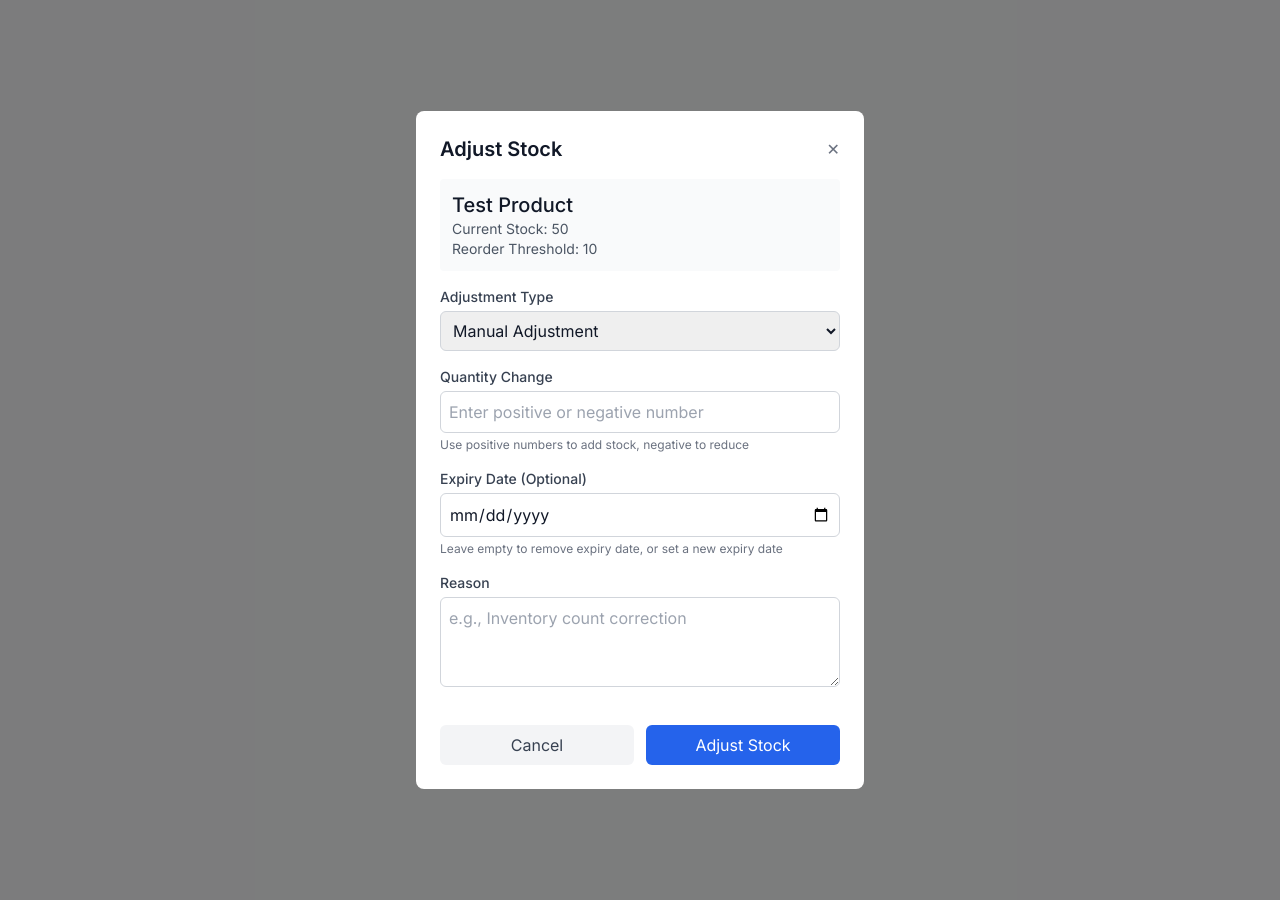
Scenario: StockAdjustmentModal › should show new stock calculation
The image size is (1280, 900).
Enter quantity
Type "10" into the number field with placeholder "Enter positive or negative number".
click(640, 412); type("10")  # box [440,391,840,433]
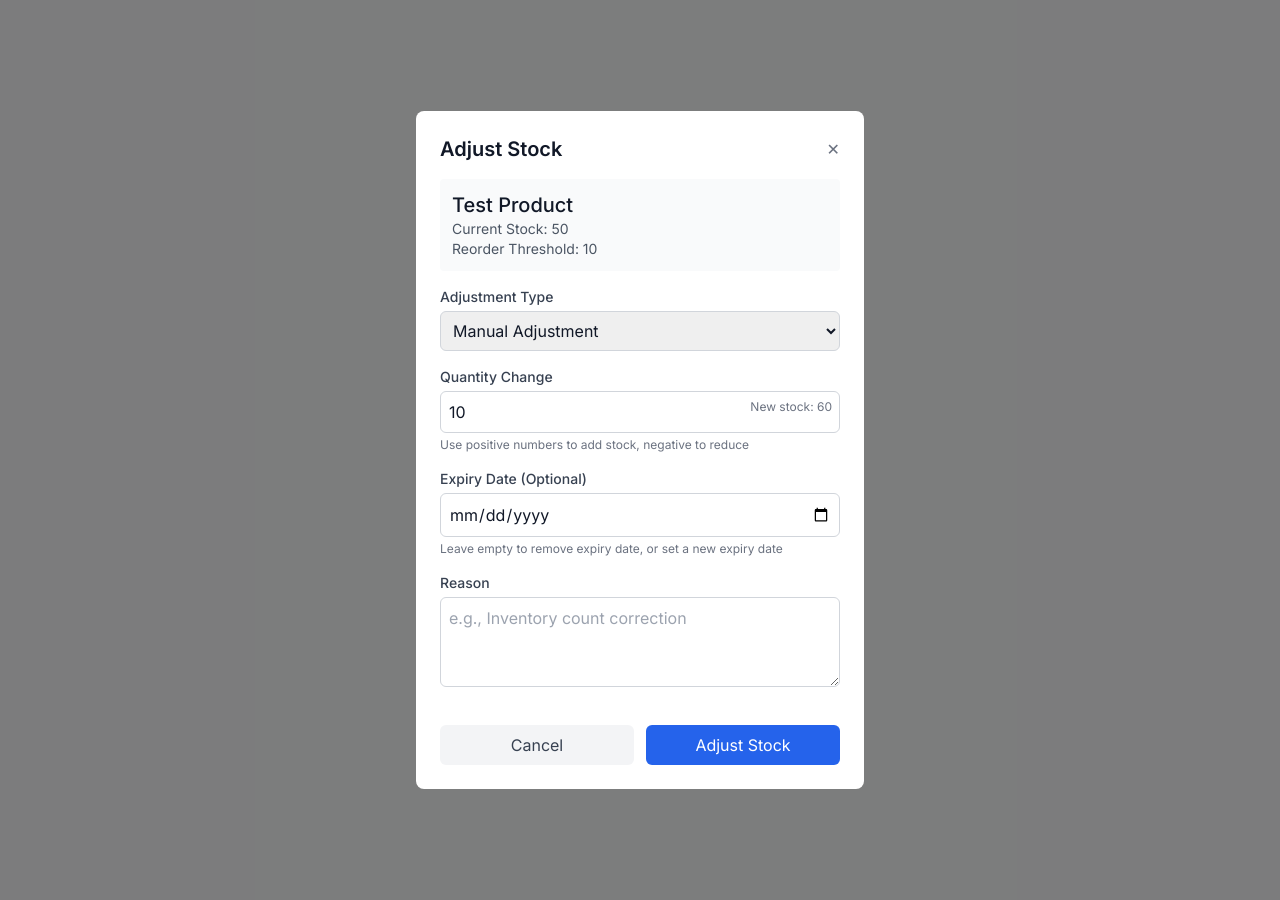
Expected: the text "New stock: 60" is shown, [750,399,832,414]
